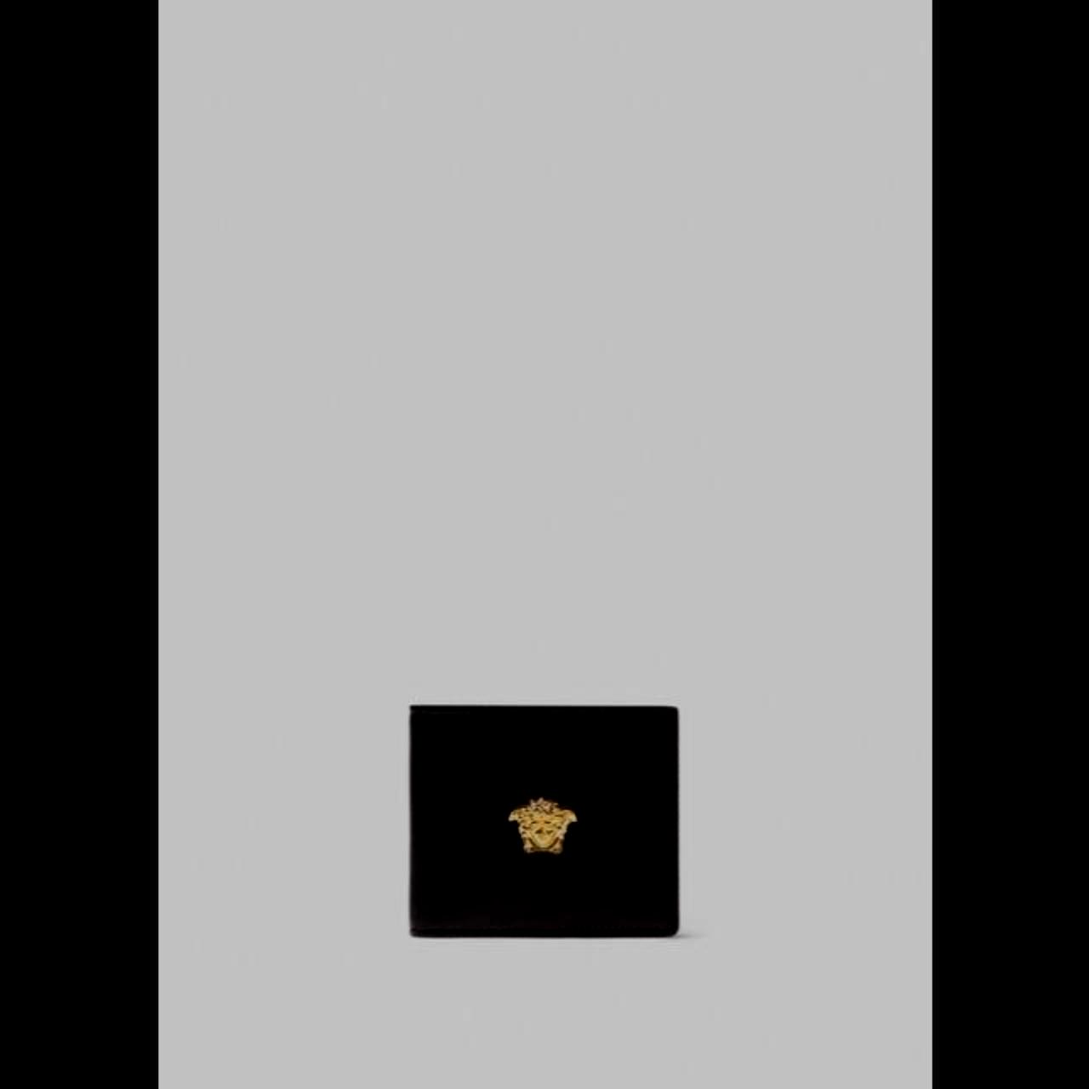wallet: (398, 693, 698, 949)
